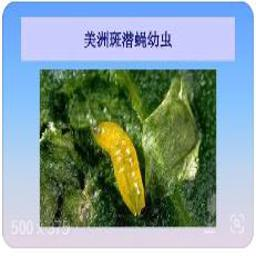liriomyza: (91, 120, 145, 217)
